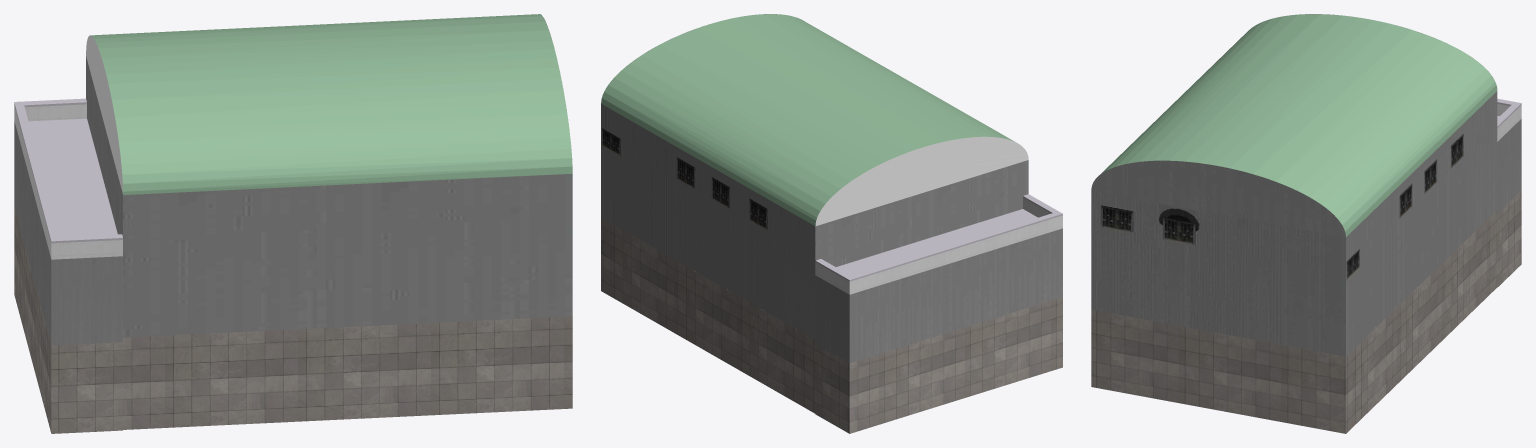
Rendered from stranno1.FBX.
3 renders of one model, left to right at view 1: azimuth 30°, elevation 25°; view 2: azimuth 150°, elevation 25°; view 3: azimuth 270°, elevation 25°, orthographic. The views are drawn at different scales.
Parts seen in each view (by area): view 1: 01010-70@248; view 2: 01010-70@248; view 3: 01010-70@248.
Boxes of the visible parts, x1=… form: 01010-70@248: x1=14, y1=14, x2=572, y2=433; 01010-70@248: x1=601, y1=14, x2=1062, y2=433; 01010-70@248: x1=1091, y1=14, x2=1521, y2=433.
Bounding box in the file's own units: 27.34 × 14.38 × 22.9.
3 materials, 3 textured.
